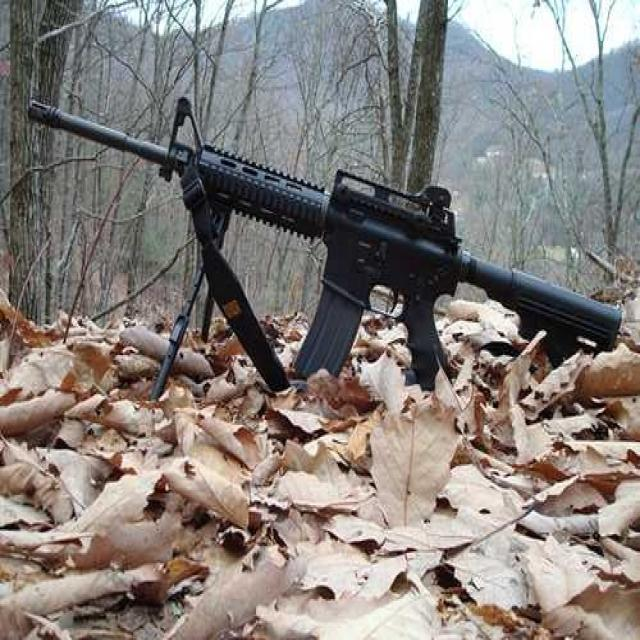Rifle: (22, 61, 631, 408)
